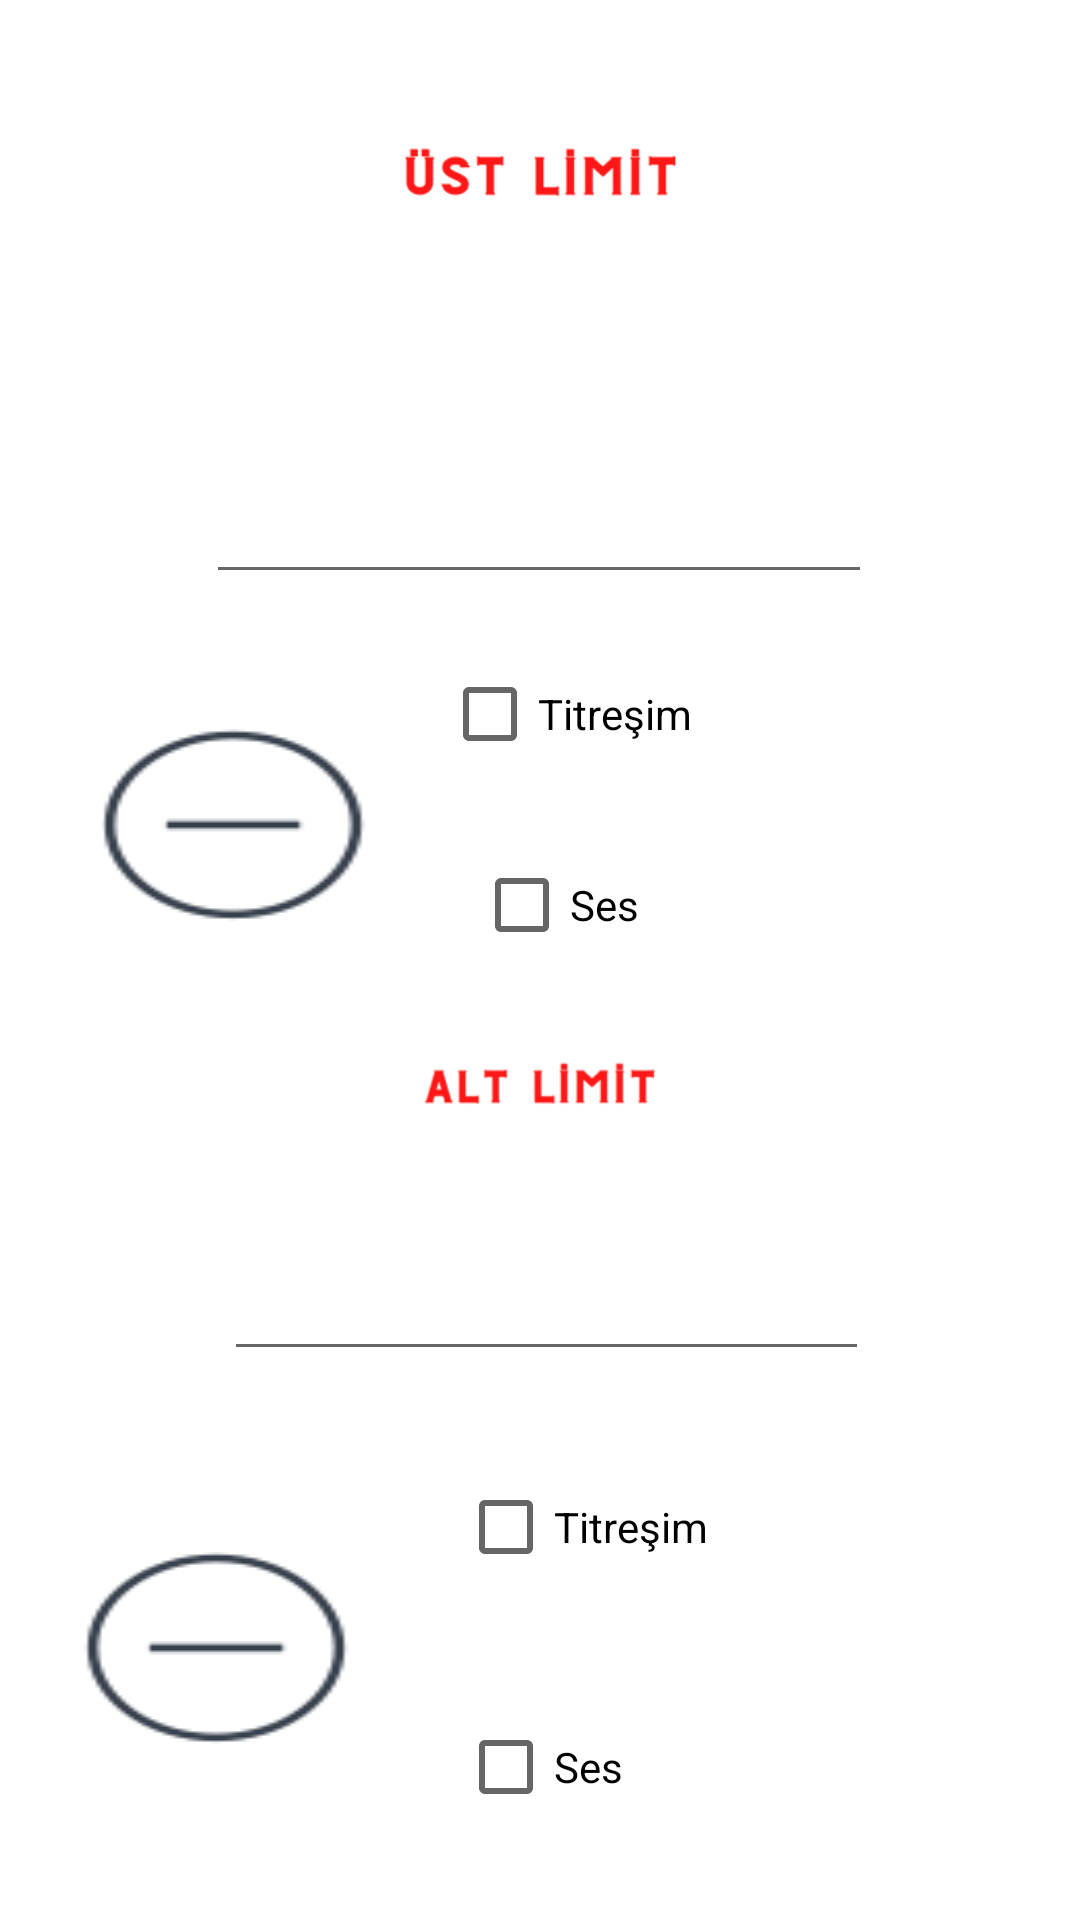

Icon bounding boxes for this 1080 × 1920 phone screenshot, format (x1, y1, x2, y2):
isaret eksi: (103, 729, 363, 919), (86, 1552, 346, 1742)
